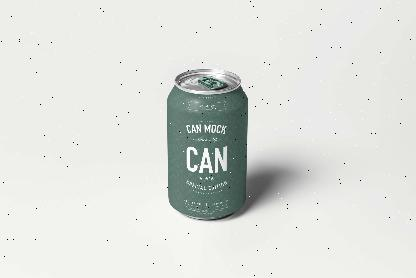Can: (167, 69, 248, 219)
